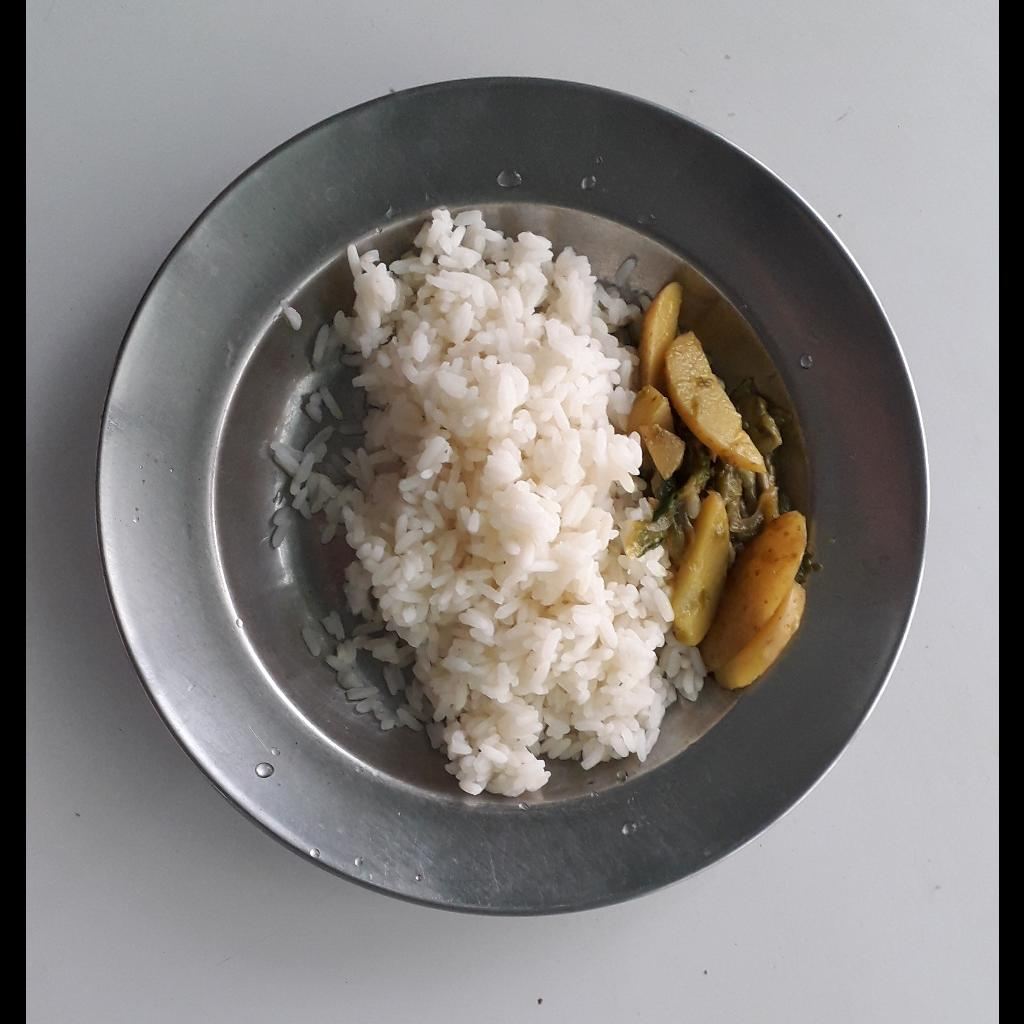potato: (629, 275, 807, 692)
rice: (272, 201, 710, 796)
